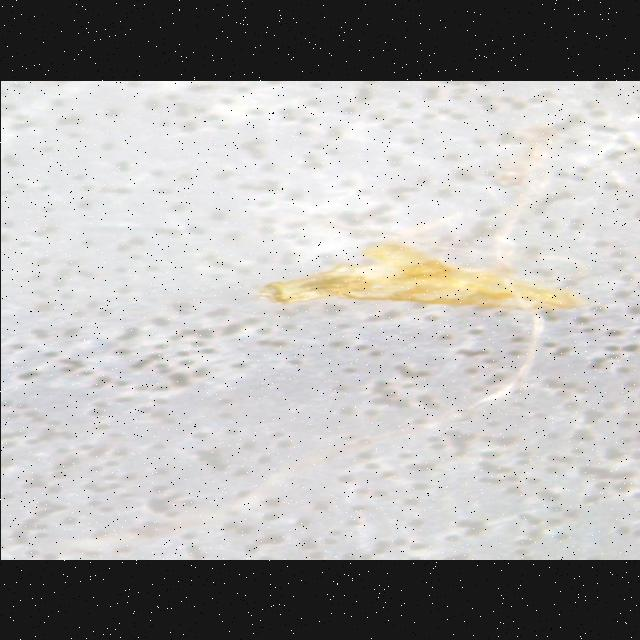Fibre: (222, 132, 586, 418)
